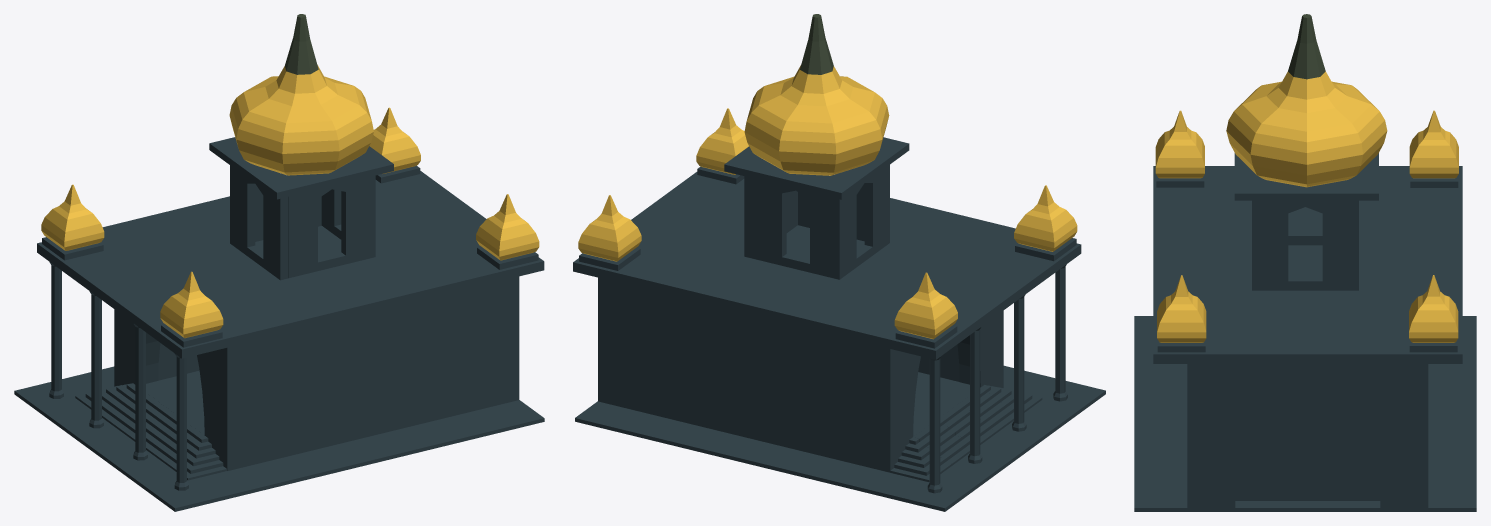
The model's file is temple.glb.
3 renders of one model, left to right at view 1: azimuth 30°, elevation 25°; view 2: azimuth 150°, elevation 25°; view 3: azimuth 270°, elevation 25°, orthographic. The views are drawn at different scales.
Visible parts, largest first — view 1: Arch Top.002, Arch Top.006, Roof 3, Arch Top.005, Window Corner.001, Window Corner, Roof 1, Roof 1.001, Roof 1.003, Arch Top.001, Roof 1.002, Arch Top.003 (+10 smaller); view 2: Arch Top.001, Arch Top.006, Roof 3, Arch Top.005, Window Corner, Roof 1, Roof 1.001, Roof 1.002, Arch Top.002, Roof 1.003, Window Corner.001, Arch Top.003 (+9 smaller); view 3: Arch Top.006, Arch Top.004, Arch Top.005, Roof 3, Window Corner.001, Arch Top.002, Arch Top.001, Roof 1.002, Roof 1.003, Roof 1.001, Roof 1, Window Corner.
Part boxes in pixels (left/top/right/bottom): Arch Top.002: left=204, top=276, right=519, bottom=470; Arch Top.006: left=37, top=171, right=544, bottom=358; Roof 3: left=209, top=14, right=393, bottom=199; Arch Top.005: left=14, top=366, right=544, bottom=511; Window Corner.001: left=288, top=175, right=375, bottom=278; Window Corner: left=230, top=165, right=321, bottom=280; Roof 1: left=41, top=184, right=104, bottom=260; Roof 1.001: left=160, top=271, right=223, bottom=347; Roof 1.003: left=476, top=194, right=539, bottom=269; Arch Top.001: left=114, top=309, right=199, bottom=386; Roof 1.002: left=369, top=107, right=420, bottom=183; Arch Top.003: left=146, top=370, right=204, bottom=435; Arch Top.001: left=598, top=277, right=912, bottom=472; Arch Top.006: left=573, top=172, right=1081, bottom=359; Roof 3: left=724, top=14, right=909, bottom=199; Arch Top.005: left=575, top=365, right=1105, bottom=511; Window Corner: left=752, top=165, right=889, bottom=279; Roof 1: left=894, top=272, right=957, bottom=348; Roof 1.001: left=1014, top=185, right=1077, bottom=261; Roof 1.002: left=578, top=195, right=641, bottom=270; Arch Top.002: left=918, top=310, right=1003, bottom=387; Roof 1.003: left=696, top=108, right=748, bottom=184; Window Corner.001: left=744, top=176, right=864, bottom=258; Arch Top.003: left=913, top=372, right=980, bottom=436; Arch Top.006: left=1153, top=166, right=1462, bottom=363; Arch Top.004: left=1230, top=364, right=1389, bottom=500; Arch Top.005: left=1134, top=316, right=1476, bottom=511; Roof 3: left=1226, top=14, right=1387, bottom=200; Window Corner.001: left=1252, top=200, right=1358, bottom=290; Arch Top.002: left=1187, top=364, right=1235, bottom=507; Arch Top.001: left=1380, top=364, right=1428, bottom=507; Roof 1.002: left=1409, top=275, right=1458, bottom=352; Roof 1.003: left=1157, top=275, right=1206, bottom=352; Roof 1.001: left=1155, top=110, right=1204, bottom=187; Roof 1: left=1409, top=110, right=1458, bottom=187; Window Corner: left=1288, top=232, right=1322, bottom=245.
Bounding box in the file's own units: 80.55 × 78.67 × 59.27.
